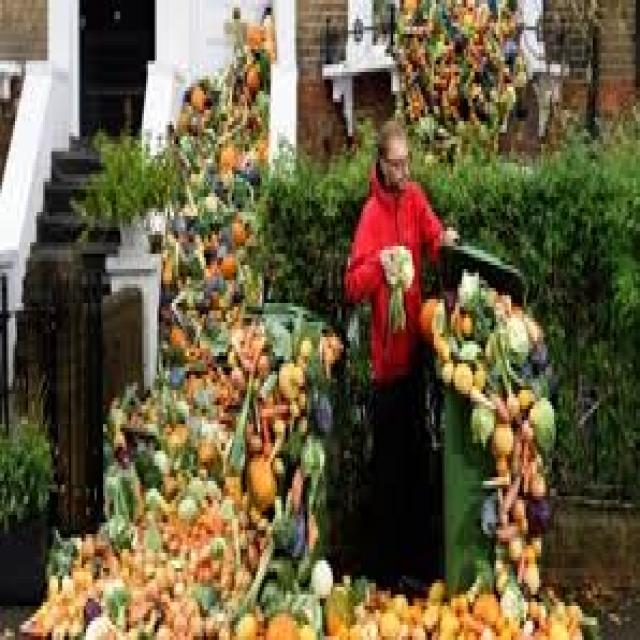food_waste: (117, 417, 319, 640), (184, 77, 265, 622), (480, 335, 546, 634)
